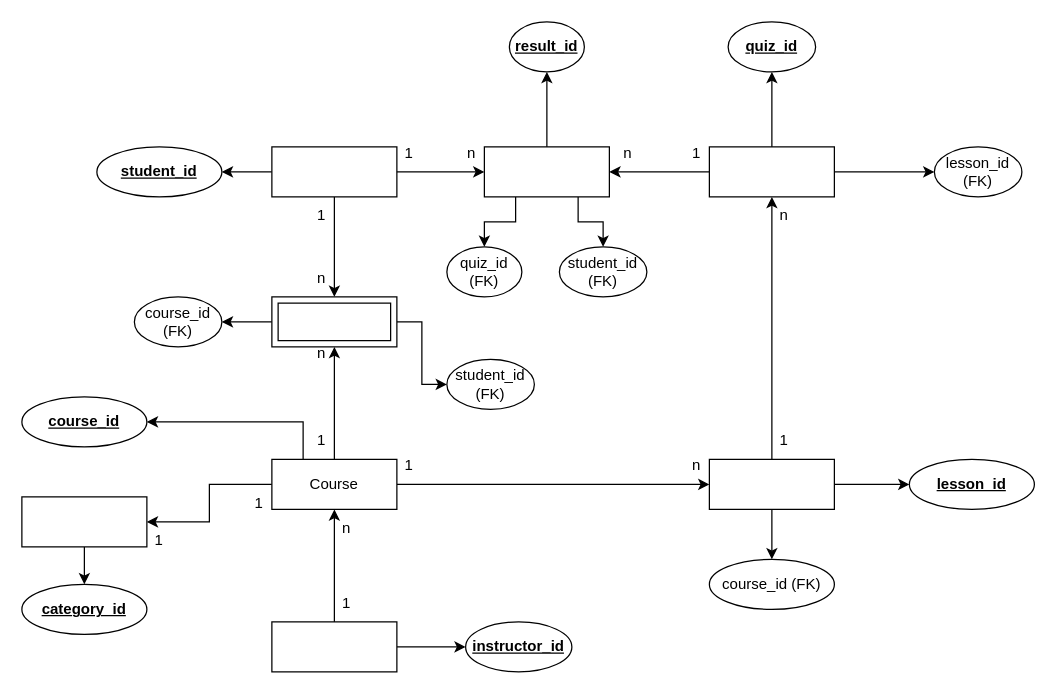
This 1056x694 diagram has some shape labels left out. The centre of each missing label's shape, as x and y in pixels:
"Category" goes at pixel 84 521.
"Enrollment" goes at pixel 334 321.
"Instructor" goes at pixel 334 646.
"Lesson" goes at pixel 771 483.
"Quiz" goes at pixel 771 171.
"Result" goes at pixel 546 171.
"Student" goes at pixel 334 171.
